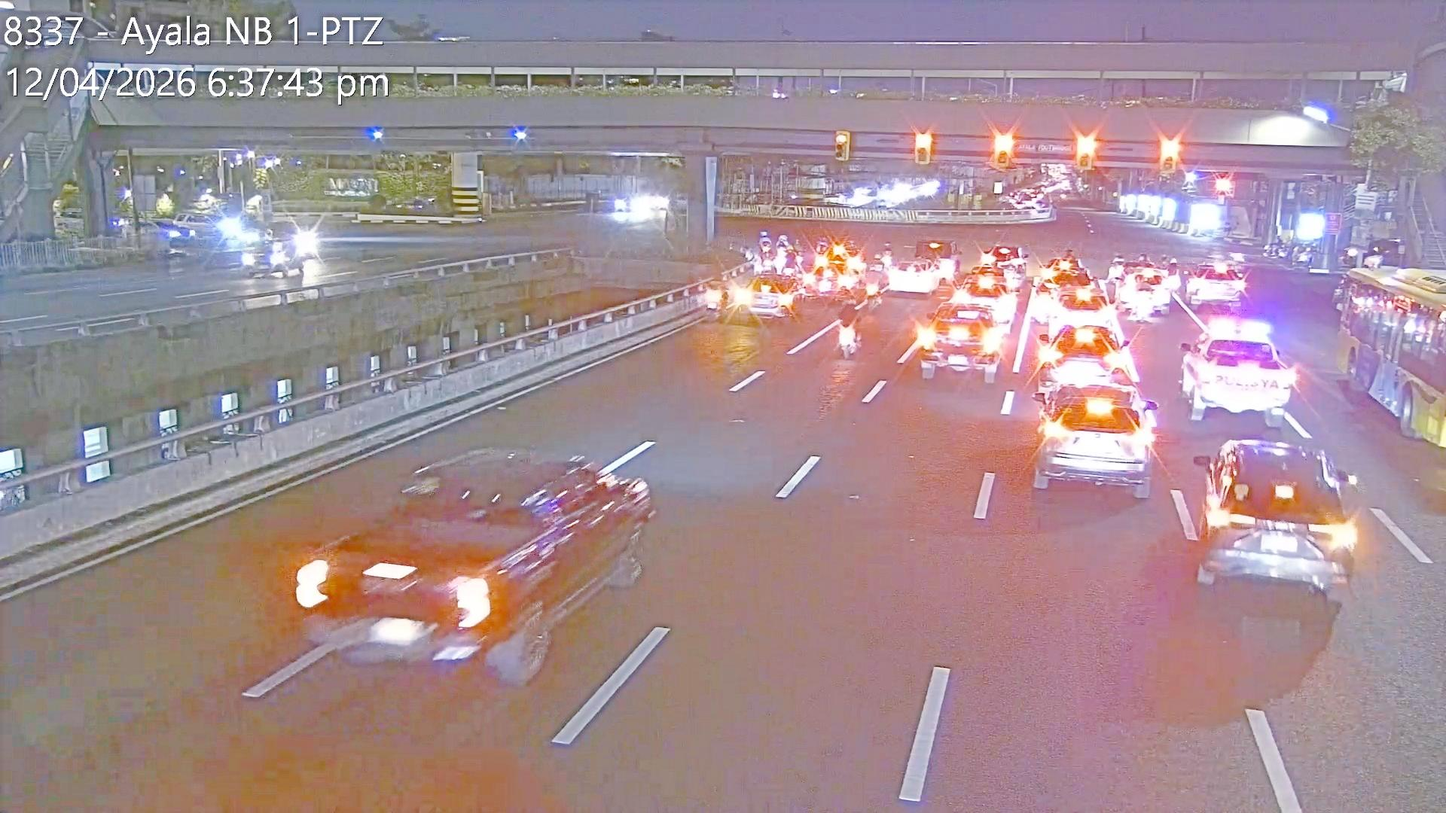Car: (291, 449, 653, 686), (1191, 441, 1358, 614), (1029, 394, 1156, 500), (1179, 330, 1295, 424), (916, 300, 1005, 381), (1031, 326, 1130, 397), (162, 210, 254, 263), (946, 270, 1017, 325), (725, 271, 802, 321), (1183, 260, 1251, 309), (1035, 266, 1092, 313), (1046, 287, 1113, 325), (1119, 266, 1171, 312), (975, 241, 1027, 284), (807, 260, 856, 299), (894, 257, 939, 295), (915, 239, 960, 277), (1039, 254, 1078, 278)
Motor: (1131, 274, 1156, 321), (836, 313, 862, 358), (705, 277, 731, 319), (862, 258, 882, 312), (1106, 250, 1126, 283), (1168, 258, 1182, 295), (784, 245, 799, 274), (758, 245, 774, 271), (882, 241, 892, 272), (872, 254, 885, 276), (816, 235, 826, 262), (759, 232, 772, 249)
Not Accident: (1032, 251, 1112, 323), (743, 231, 805, 320), (956, 244, 1024, 317), (1162, 256, 1246, 309), (806, 234, 860, 300), (896, 239, 956, 292), (1117, 265, 1171, 316), (862, 239, 892, 310)
